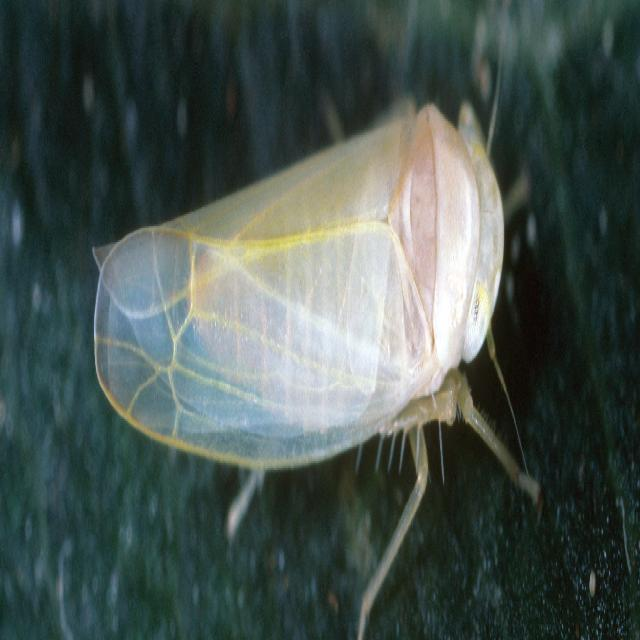Yechan: (70, 28, 541, 532)
